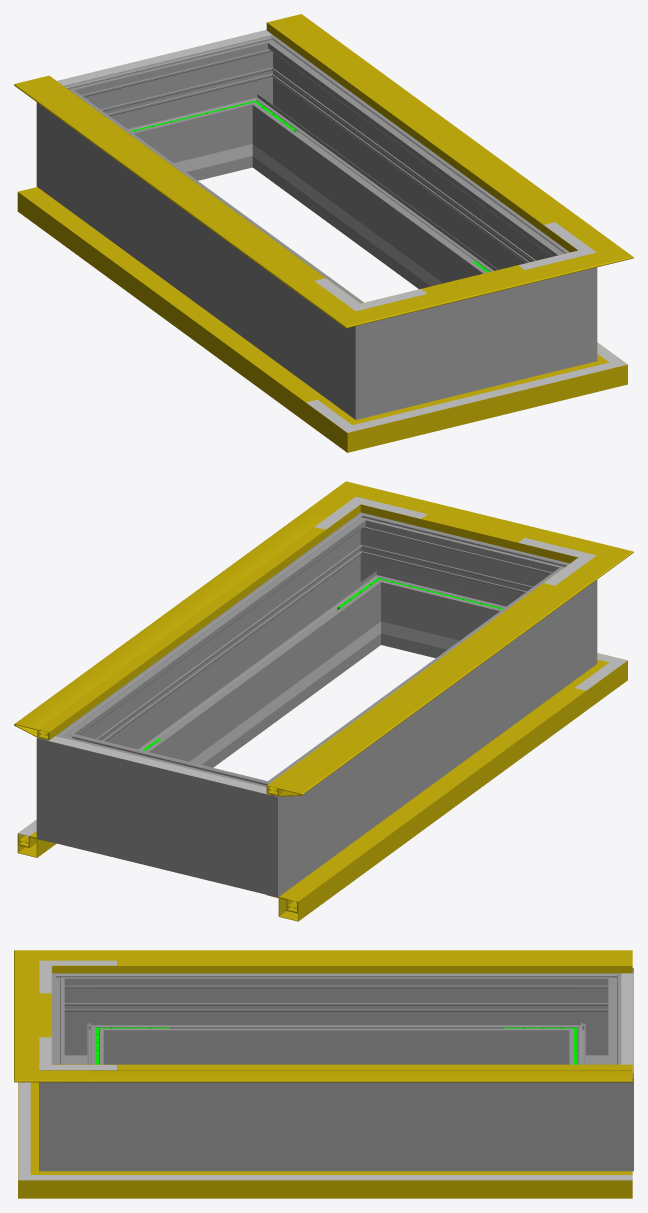
3 views of the same model, one above another, from view 1: azimuth 30°, elevation 25°; view 2: azimuth 150°, elevation 25°; view 3: azimuth 270°, elevation 25° (orthographic). The views are drawn at different scales.
Parts seen in each view (by area): view 1: 3DGeom-297, 3DGeom-268, 3DGeom-270, 3DGeom-276, 3DGeom-298, 3DGeom-145, 3DGeom-6, 3DGeom-147, 3DGeom-290, 3DGeom-284, 3DGeom-278, 3DGeom-11 (+17 smaller); view 2: 3DGeom-297, 3DGeom-268, 3DGeom-278, 3DGeom-276, 3DGeom-298, 3DGeom-145, 3DGeom-6, 3DGeom-284, 3DGeom-147, 3DGeom-290, 3DGeom-270, 3DGeom-25 (+14 smaller); view 3: 3DGeom-268, 3DGeom-297, 3DGeom-16, 3DGeom-147, 3DGeom-145, 3DGeom-284, 3DGeom-290, 3DGeom-278, 3DGeom-270, 3DGeom-18, 3DGeom-152, 3DGeom-154 (+13 smaller).
Part boxes in pixels (bbox=[...]): 3DGeom-297: bbox=[259, 60, 543, 289]; 3DGeom-268: bbox=[78, 110, 337, 388]; 3DGeom-270: bbox=[314, 283, 427, 419]; 3DGeom-276: bbox=[115, 46, 240, 180]; 3DGeom-298: bbox=[427, 285, 525, 402]; 3DGeom-145: bbox=[266, 14, 591, 242]; 3DGeom-6: bbox=[17, 187, 324, 422]; 3DGeom-147: bbox=[14, 76, 338, 297]; 3DGeom-290: bbox=[525, 233, 597, 378]; 3DGeom-284: bbox=[213, 32, 307, 172]; 3DGeom-278: bbox=[36, 69, 143, 216]; 3DGeom-11: bbox=[408, 374, 555, 434]; 3DGeom-297: bbox=[90, 538, 374, 767]; 3DGeom-268: bbox=[296, 588, 555, 866]; 3DGeom-278: bbox=[206, 761, 319, 897]; 3DGeom-276: bbox=[108, 745, 219, 879]; 3DGeom-298: bbox=[393, 527, 518, 658]; 3DGeom-145: bbox=[14, 511, 339, 740]; 3DGeom-6: bbox=[267, 686, 586, 921]; 3DGeom-284: bbox=[36, 710, 121, 855]; 3DGeom-147: bbox=[266, 573, 592, 796]; 3DGeom-290: bbox=[326, 512, 420, 649]; 3DGeom-270: bbox=[490, 551, 597, 693]; 3DGeom-25: bbox=[287, 688, 585, 903]; 3DGeom-268: bbox=[116, 973, 556, 1064]; 3DGeom-297: bbox=[116, 1082, 556, 1171]; 3DGeom-16: bbox=[95, 1171, 632, 1198]; 3DGeom-147: bbox=[91, 950, 632, 973]; 3DGeom-145: bbox=[91, 1064, 632, 1082]; 3DGeom-284: bbox=[556, 1045, 633, 1171]; 3DGeom-290: bbox=[39, 1045, 116, 1171]; 3DGeom-278: bbox=[556, 968, 633, 1064]; 3DGeom-270: bbox=[52, 973, 116, 1064]; 3DGeom-18: bbox=[95, 1175, 632, 1180]; 3DGeom-152: bbox=[117, 1065, 632, 1070]; 3DGeom-154: bbox=[117, 960, 632, 965].
Size of the model in its own units: 0.6096 by 0.2596 by 1.22.
